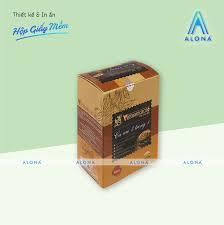box: (77, 60, 159, 189)
